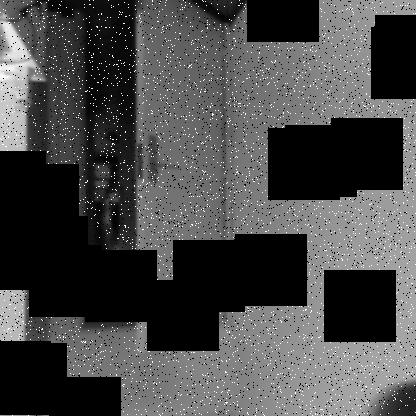Porte: (68, 1, 236, 357)
